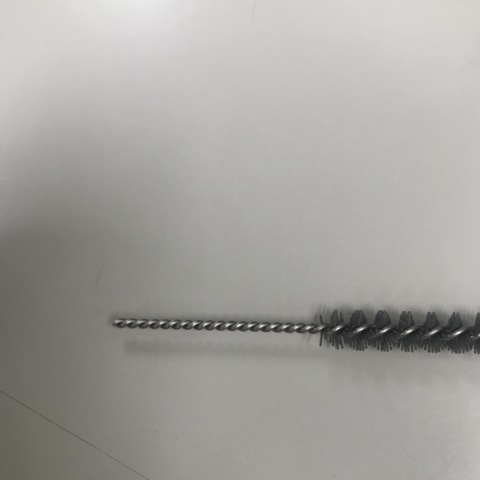Twist Brush-A: (105, 302, 480, 358)
